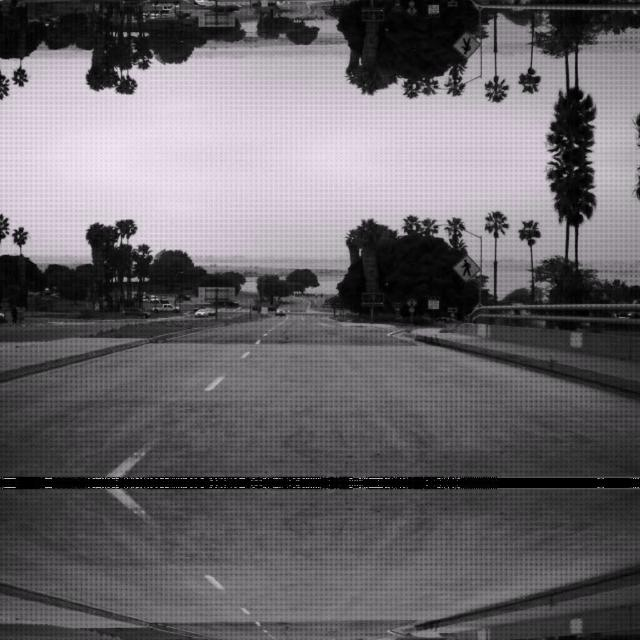pedestrianCrossing: (452, 252, 480, 280), (452, 32, 480, 60)
